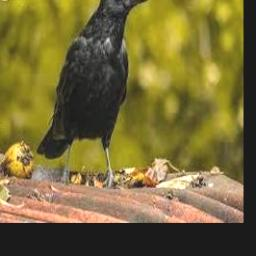Crow: (37, 0, 149, 185)
